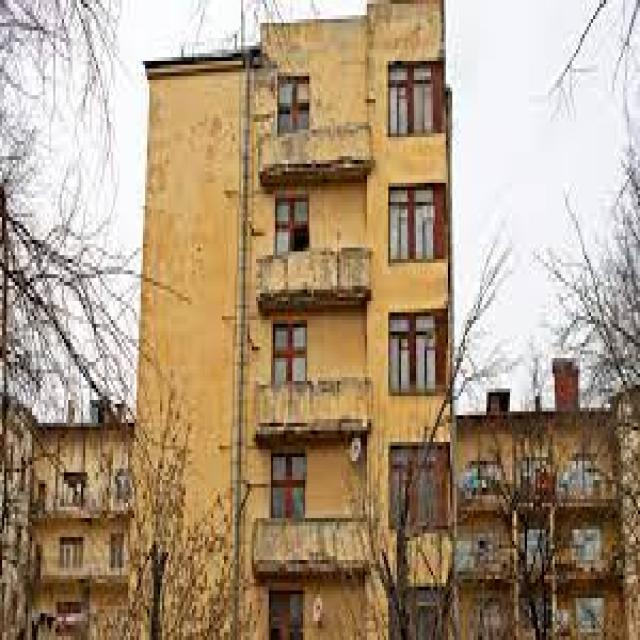window: (408, 179, 438, 278), (410, 57, 435, 149), (414, 312, 439, 400), (388, 316, 412, 400), (388, 183, 408, 274), (392, 65, 408, 133)
